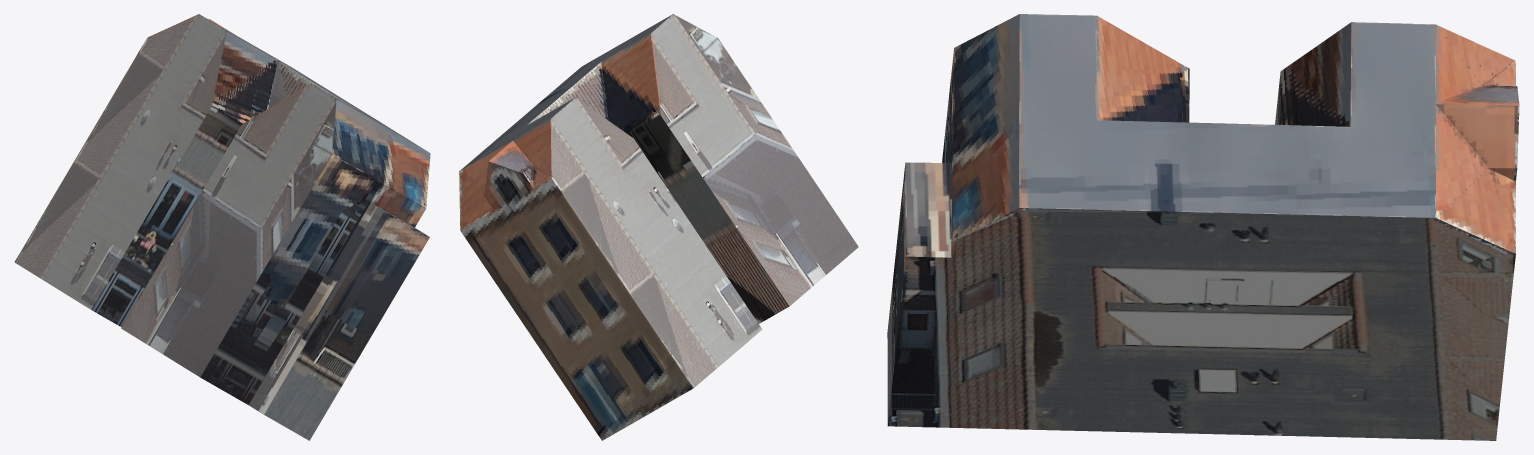
3 views of the same model, side by side, from view 1: azimuth 30°, elevation 25°; view 2: azimuth 150°, elevation 25°; view 3: azimuth 270°, elevation 25° (orthographic). The views are drawn at different scales.
Visible parts, largest first — view 1: BAG_0599100000670776 (×4); view 2: BAG_0599100000670776 (×5); view 3: BAG_0599100000670776 (×6).
Part boxes in pixels (x1=…): BAG_0599100000670776 (×4): x1=14, y1=14, x2=430, y2=440; BAG_0599100000670776 (×5): x1=459, y1=14, x2=858, y2=440; BAG_0599100000670776 (×6): x1=887, y1=14, x2=1519, y2=440.
Size of the model in its own units: 12.93 by 14.35 by 16.87.
1 material, 1 textured.
